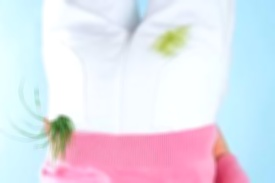earth: (154, 30, 188, 53)
